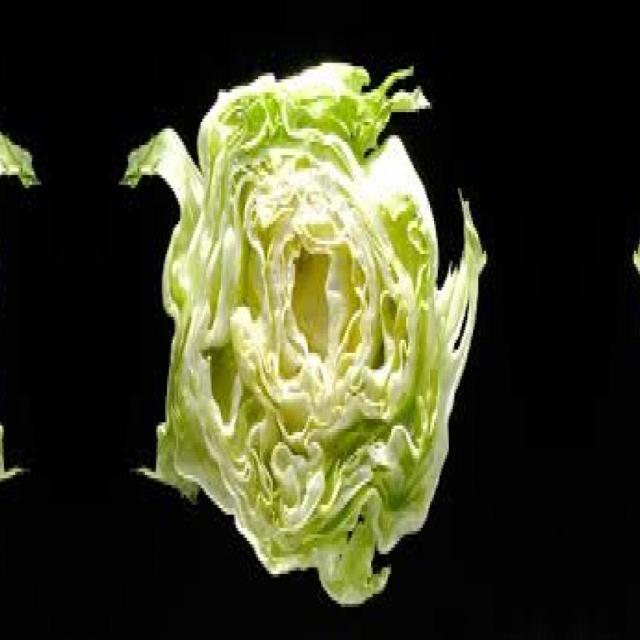healthy: (142, 59, 480, 598), (0, 59, 17, 598)
